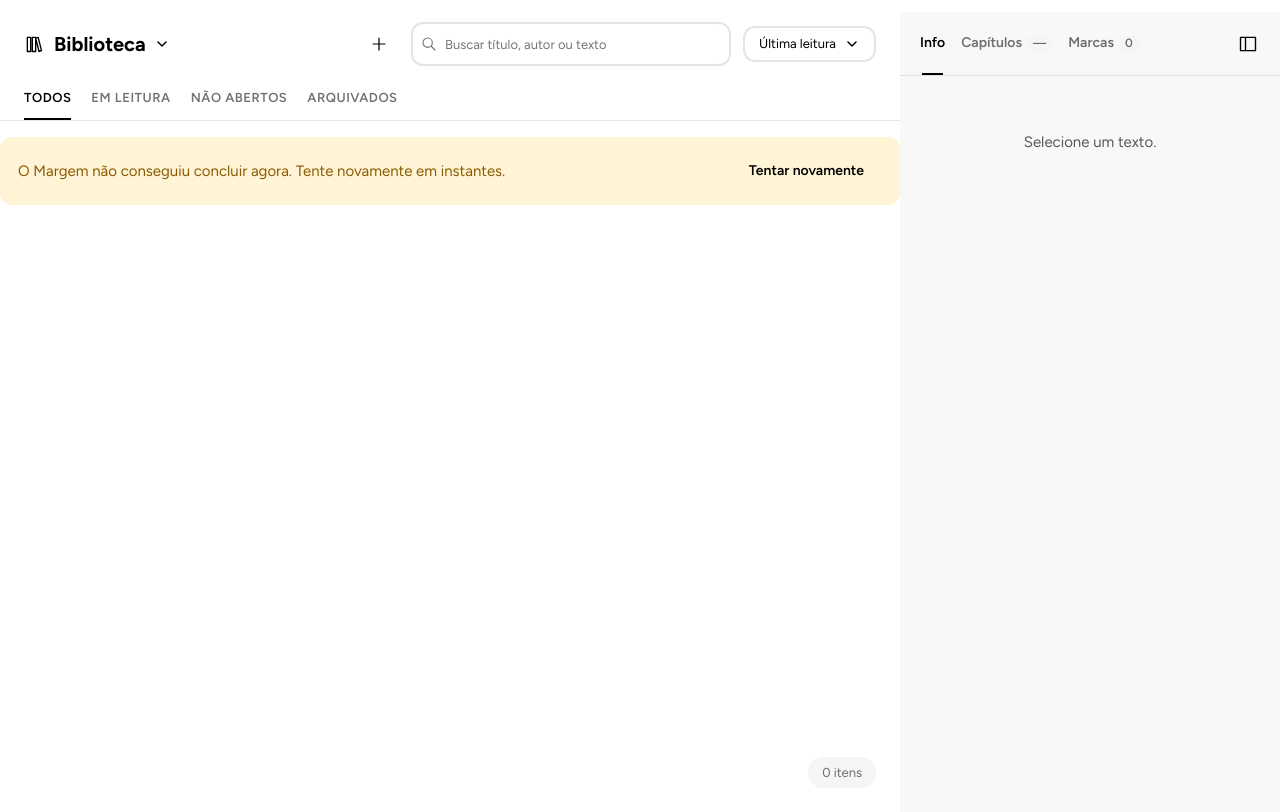
biblioteca › a lista que não carrega diz isso em português e tenta de novo
Expected: the message shows "O Margem não conseguiu concluir agora. Tente novamente em instantes.", [18,162,505,180]
Click the button "Tentar novamente".
click(806, 171)  # box [731,151,882,191]
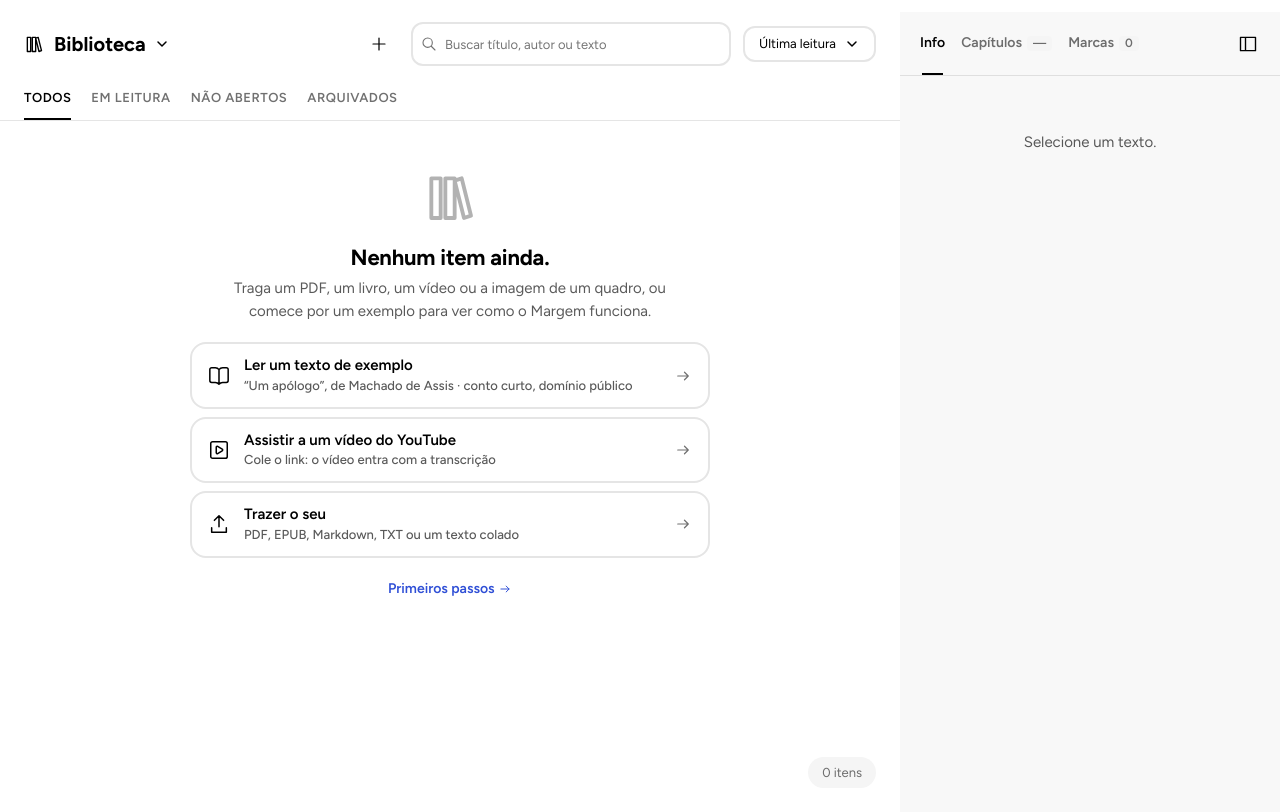
Result: the heading "Nenhum item ainda." is shown at [351,244,549,271]
Result: the message is gone
